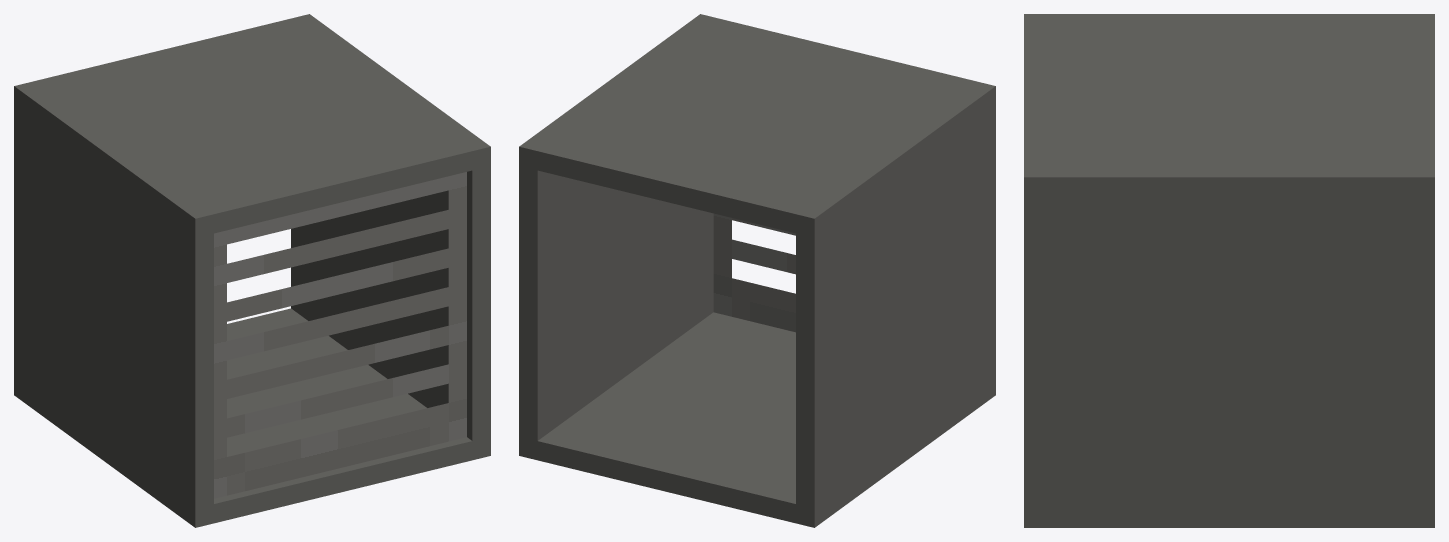
The model's file is vent_closed.glb.
3 renders of one model, left to right at view 1: azimuth 30°, elevation 25°; view 2: azimuth 150°, elevation 25°; view 3: azimuth 270°, elevation 25°, orthographic. The views are drawn at different scales.
Parts seen in each view (by area): view 1: vent_door_close, plane, door; view 2: vent_door_close, door, plane; view 3: vent_door_close, door.
Part boxes in pixels (x1,y1,x2,y2): vent_door_close: [14, 14, 479, 519]; plane: [214, 172, 466, 498]; door: [184, 139, 490, 527]; vent_door_close: [519, 22, 985, 527]; door: [690, 14, 995, 402]; plane: [713, 213, 795, 332]; vent_door_close: [1048, 14, 1434, 527]; door: [1024, 14, 1048, 527].
Size of the model in its own units: 1 by 1 by 1.06.
1 material, 1 textured.
